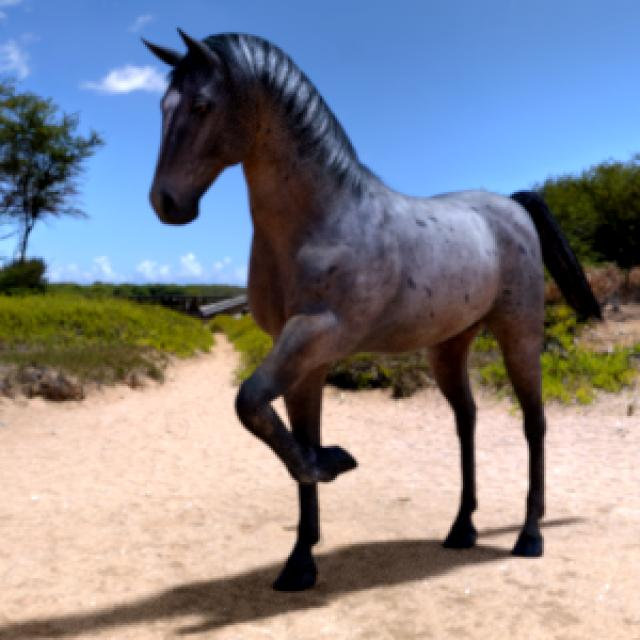horse: (146, 31, 600, 589)
